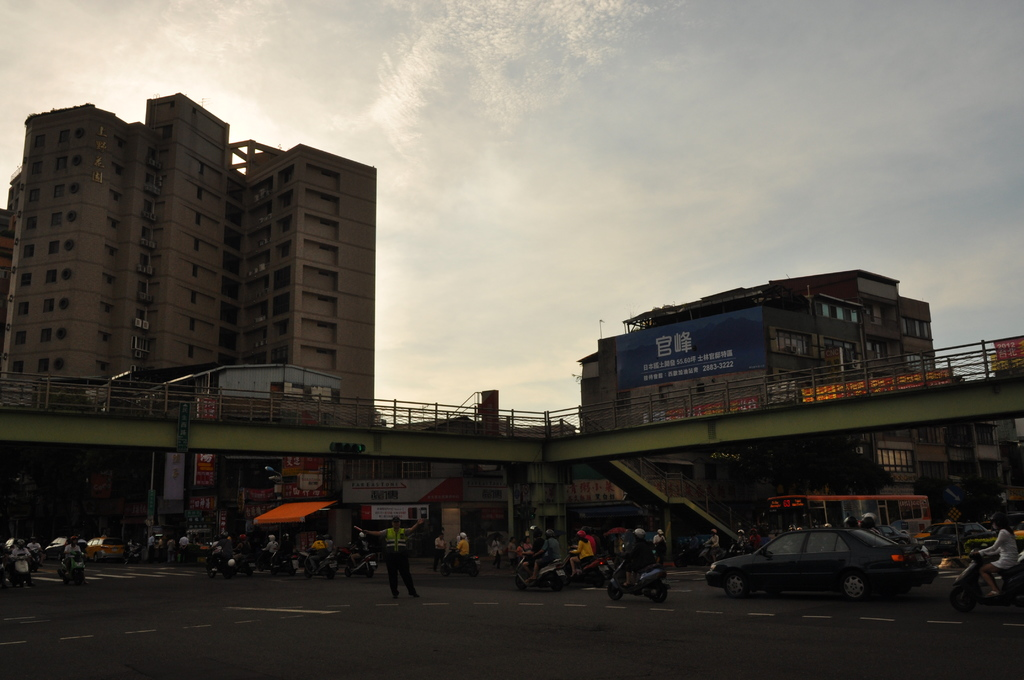Car: (713, 524, 946, 603)
